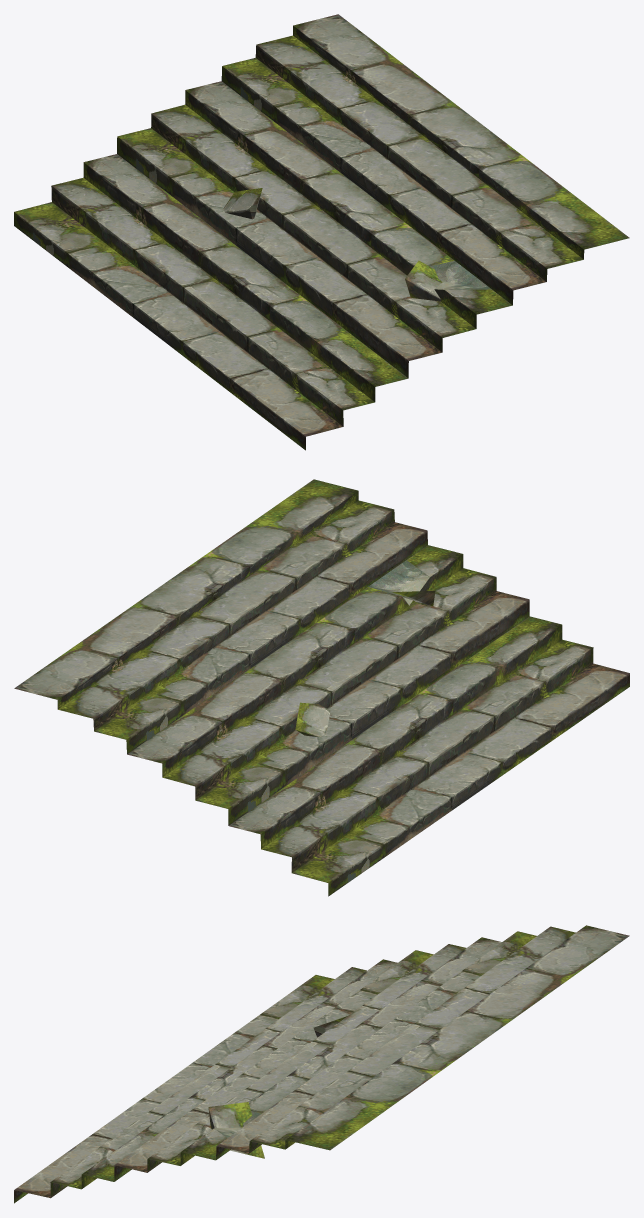
Rendered from 1004_Item_louti_1.FBX.
The picture shows the model from 3 angles, top to bottom: view 1: azimuth 30°, elevation 25°; view 2: azimuth 150°, elevation 25°; view 3: azimuth 330°, elevation 25°; orthographic projection. The views are drawn at different scales.
Parts seen in each view (by area): view 1: 1004_Item_louti_1; view 2: 1004_Item_louti_1; view 3: 1004_Item_louti_1.
Boxes of the visible parts, x1,y1,x2,y2 form: 1004_Item_louti_1: [14, 14, 629, 450]; 1004_Item_louti_1: [14, 479, 629, 896]; 1004_Item_louti_1: [14, 925, 629, 1203].
Bounding box in the file's own units: 515 × 809 × 202.
Materials: 1 (1 with a texture image).
